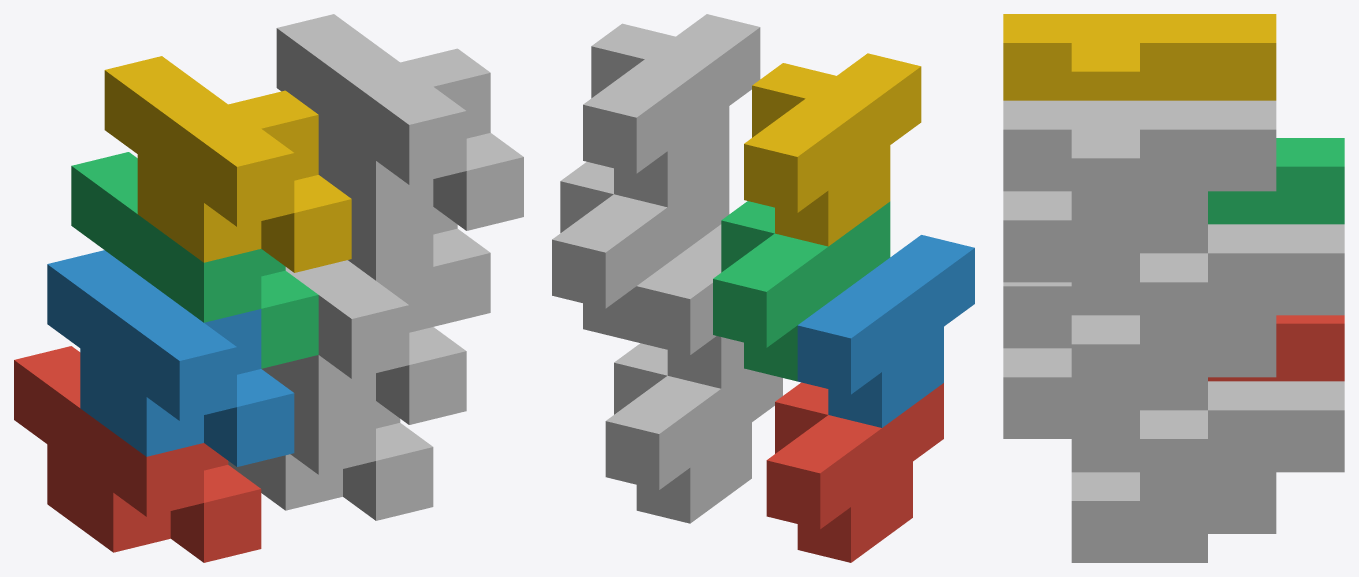
Rendered from tiling.obj.
3 views of the same model, side by side, from view 1: azimuth 30°, elevation 25°; view 2: azimuth 150°, elevation 25°; view 3: azimuth 270°, elevation 25° (orthographic). The views are drawn at different scales.
Visible parts, largest first — view 1: copy_1_domain_4, copy_1_domain_8, copy_1_domain_2, copy_1_domain_1, copy_1_domain_6, copy_1_domain_3, copy_1_domain_5, copy_1_domain_7; view 2: copy_1_domain_4, copy_1_domain_8, copy_1_domain_2, copy_1_domain_1, copy_1_domain_5, copy_1_domain_3, copy_1_domain_7, copy_1_domain_6; view 3: copy_1_domain_8, copy_1_domain_7, copy_1_domain_5, copy_1_domain_4, copy_1_domain_6, copy_1_domain_3, copy_1_domain_1.
Boxes of the visible parts, box(x1,y1,x2,y2) form: copy_1_domain_4: box(104, 56, 351, 272); copy_1_domain_8: box(276, 14, 523, 230); copy_1_domain_2: box(47, 250, 294, 466); copy_1_domain_1: box(14, 346, 261, 562); copy_1_domain_6: box(262, 260, 466, 424); copy_1_domain_3: box(71, 152, 318, 368); copy_1_domain_5: box(228, 397, 433, 520); copy_1_domain_7: box(348, 203, 490, 326); copy_1_domain_4: box(744, 53, 921, 246); copy_1_domain_8: box(583, 14, 760, 207); copy_1_domain_2: box(797, 235, 974, 427); copy_1_domain_1: box(766, 382, 943, 562); copy_1_domain_5: box(605, 343, 782, 523); copy_1_domain_3: box(713, 201, 890, 381); copy_1_domain_7: box(552, 162, 729, 341); copy_1_domain_6: box(636, 224, 747, 388); copy_1_domain_8: box(1003, 100, 1276, 282); copy_1_domain_7: box(1071, 224, 1344, 405); copy_1_domain_5: box(1071, 381, 1344, 562); copy_1_domain_4: box(1003, 14, 1276, 100); copy_1_domain_6: box(1003, 282, 1207, 438); copy_1_domain_3: box(1208, 138, 1344, 224); copy_1_domain_1: box(1208, 315, 1344, 381).
Size of the model in its own units: 6 by 7 by 5.
